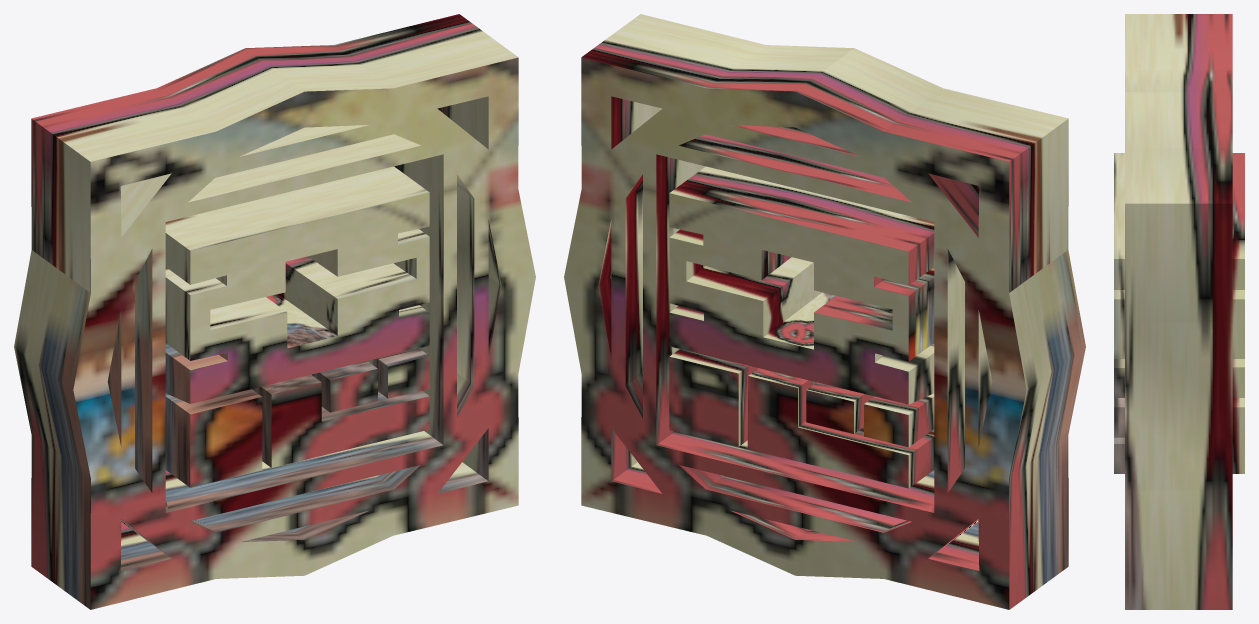
The model's file is icondata.0.obj.
The picture shows the model from 3 angles, left to right: view 1: azimuth 30°, elevation 25°; view 2: azimuth 150°, elevation 25°; view 3: azimuth 270°, elevation 25°; orthographic projection. The views are drawn at different scales.
Bounding box in the file's own units: 4.86 × 4.86 × 1.31.
